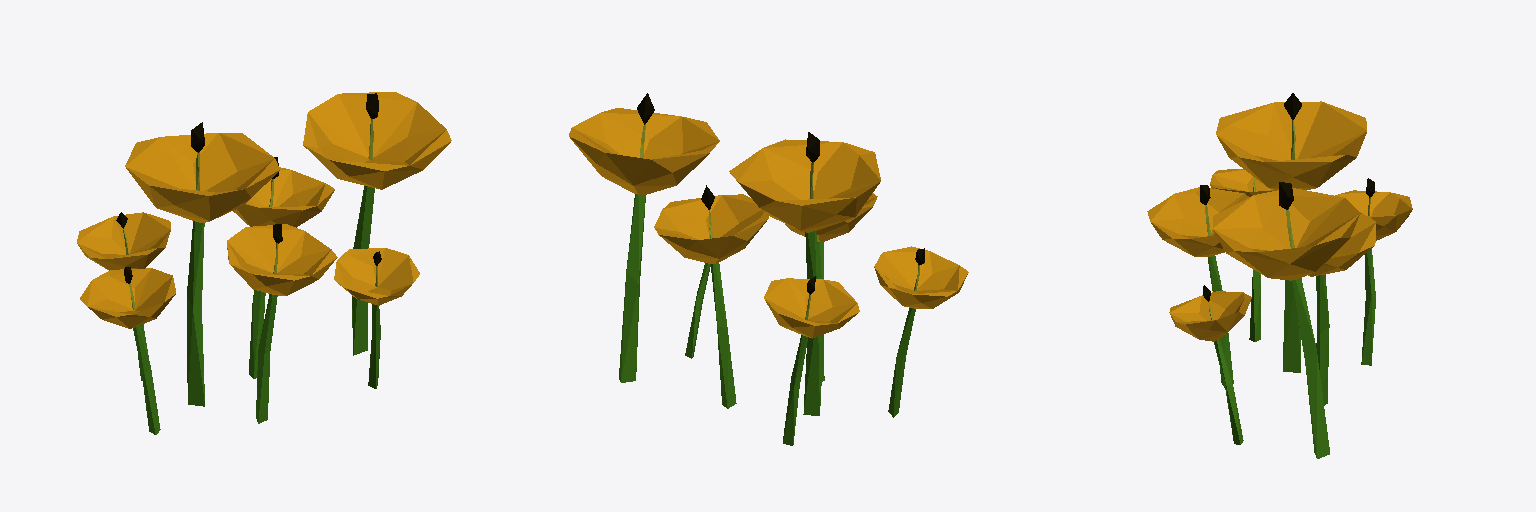
File: flower8.obj
3 views of the same model, side by side, from view 1: azimuth 30°, elevation 25°; view 2: azimuth 150°, elevation 25°; view 3: azimuth 270°, elevation 25° (orthographic).
Visible parts, largest first — view 1: Flower2_2_Cylinder.002; view 2: Flower2_2_Cylinder.002; view 3: Flower2_2_Cylinder.002.
Part boxes in pixels (bbox=[...]): Flower2_2_Cylinder.002: bbox=[77, 92, 451, 434]; Flower2_2_Cylinder.002: bbox=[569, 93, 968, 445]; Flower2_2_Cylinder.002: bbox=[1147, 93, 1412, 458].
Size of the model in its own units: 0.7859 by 0.5894 by 0.5035.